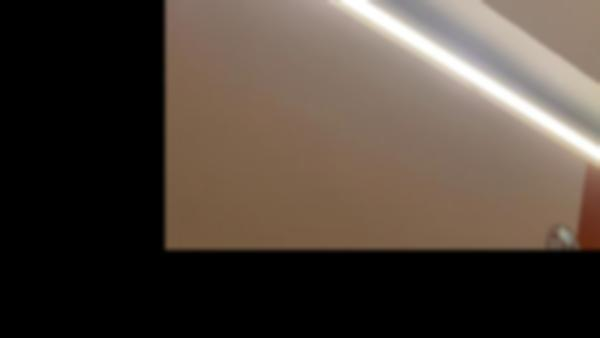light_on: (220, 0, 600, 212)
